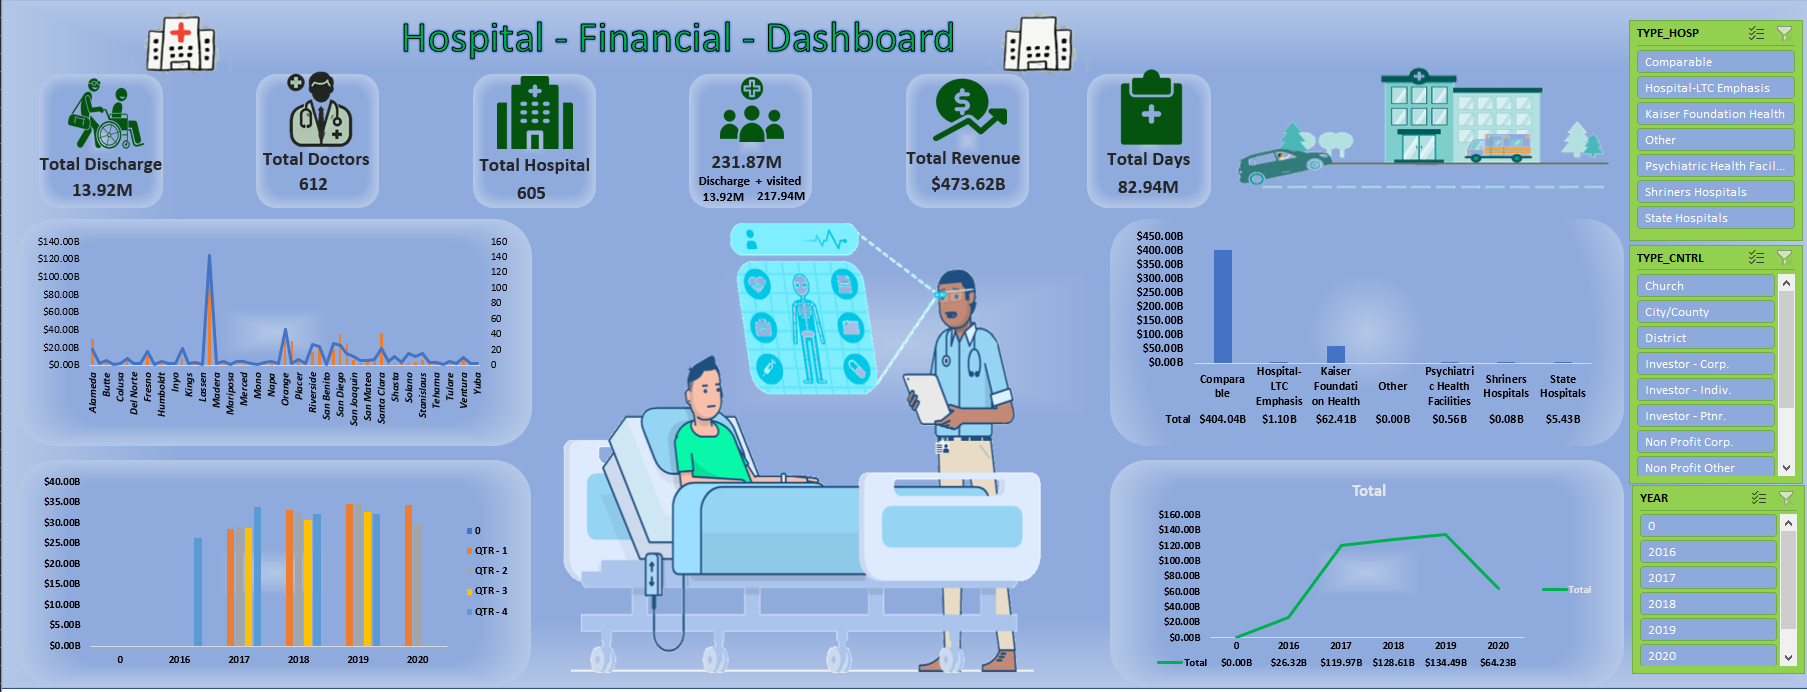

The dashboard page shown, as its layout file describes it:
{"tool":"tableau","page":{"name":"Dashboard 1","canvas":[1000,1000],"units":"permille","ordinal":0},"visuals":[{"type":"title","box":[6.8,13.5,986.4,84.5]},{"type":"worksheet","title":"Top 10 Avl Bed and revenu wise city","mark":"Text","rows":["CITY"],"box":[6.8,98,376.9,478]},{"type":"worksheet","title":"Total Revenue","mark":"Automatic","box":[383.7,98,98.4,194.2]},{"type":"worksheet","title":"Total Discahrge","mark":"Automatic","box":[482.1,98,84.2,194.2]},{"type":"worksheet","title":"Total Patient","mark":"Automatic","box":[566.2,98,99.8,194.2]},{"type":"worksheet","title":"Total Hospital","mark":"Automatic","box":[666.1,98,67.6,194.2]},{"type":"worksheet","title":"Total Days","mark":"Automatic","box":[733.7,98,189.3,194.2]},{"type":"worksheet","title":"Total Doctors","mark":"Automatic","box":[923,98,70.2,194.2]},{"type":"worksheet","title":"YTD and QTD Revenue","mark":"Automatic","rows":["NET_TOT"],"cols":["QUARTER","YEAR"],"box":[383.7,292.2,324.6,321]},{"type":"worksheet","title":"Revenue Trend","mark":"Line","rows":["NET_TOT"],"cols":["YEAR"],"box":[708.3,292.2,284.9,321]},{"type":"worksheet","title":"State wise Hospital and revenue","mark":"Line","rows":["NET_TOT","FAC_NAME"],"cols":["COUNTY_NAME"],"box":[6.8,613.1,377.8,373.3]},{"type":"filter","title":"Top 10 Avl Bed and revenu wise city","param":"[federated.1tu29ew0iq8ybf1gxef0t1wgel4v].[none:YEAR:ok]","box":[384.6,613.1,207,124.4]},{"type":"worksheet","title":"Type of Hospital And Revenue","mark":"Automatic","rows":["TYPE_HOSP"],"box":[591.6,613.1,401.6,373.3]},{"type":"filter","title":"Top 10 Avl Bed and revenu wise city","param":"[federated.1tu29ew0iq8ybf1gxef0t1wgel4v].[none:TYPE_CNTRL:nk]","box":[384.6,737.6,207,124.4]},{"type":"filter","title":"Top 10 Avl Bed and revenu wise city","param":"[federated.1tu29ew0iq8ybf1gxef0t1wgel4v].[none:TYPE_HOSP:nk]","box":[384.6,862,207,124.5]}]}

Visuals, with their boxes on the dashboard's canvas, which has no fixed pixel size, in thousandths of its width and height (x1, y1, x2, y2). These are canvas units, not pixel positions in the 1807x692 screenshot, which may show the page scaled, cropped or inside an application window:
title: [x1=7, y1=14, x2=993, y2=98]
"Top 10 Avl Bed and revenu wise city" worksheet (Text marks): [x1=7, y1=98, x2=384, y2=576]
"Total Revenue" worksheet: [x1=384, y1=98, x2=482, y2=292]
"Total Discahrge" worksheet: [x1=482, y1=98, x2=566, y2=292]
"Total Patient" worksheet: [x1=566, y1=98, x2=666, y2=292]
"Total Hospital" worksheet: [x1=666, y1=98, x2=734, y2=292]
"Total Days" worksheet: [x1=734, y1=98, x2=923, y2=292]
"Total Doctors" worksheet: [x1=923, y1=98, x2=993, y2=292]
"YTD and QTD Revenue" worksheet: [x1=384, y1=292, x2=708, y2=613]
"Revenue Trend" worksheet (Line marks): [x1=708, y1=292, x2=993, y2=613]
"State wise Hospital and revenue" worksheet (Line marks): [x1=7, y1=613, x2=385, y2=986]
"Top 10 Avl Bed and revenu wise city" filter: [x1=385, y1=613, x2=592, y2=738]
"Type of Hospital And Revenue" worksheet: [x1=592, y1=613, x2=993, y2=986]
"Top 10 Avl Bed and revenu wise city" filter: [x1=385, y1=738, x2=592, y2=862]
"Top 10 Avl Bed and revenu wise city" filter: [x1=385, y1=862, x2=592, y2=986]
